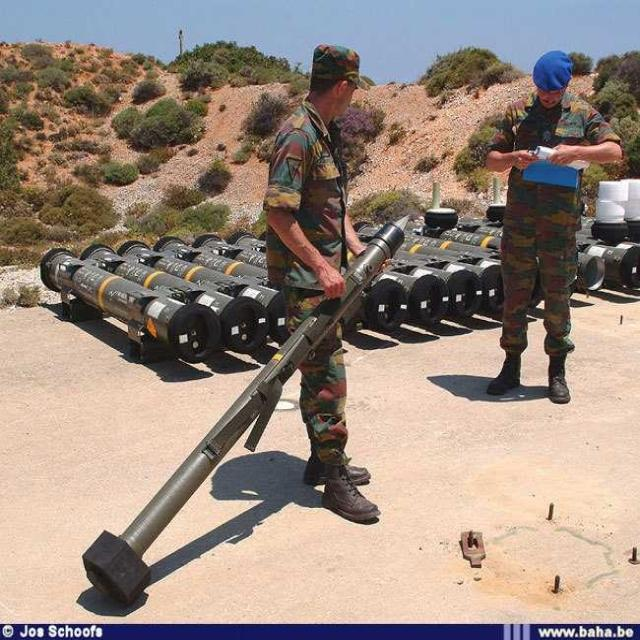missile: (78, 204, 416, 612), (41, 250, 219, 385)
